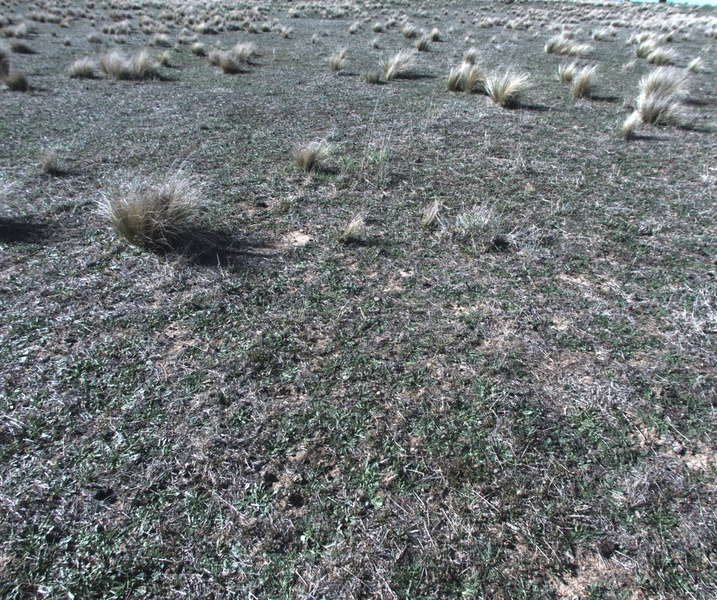st: (97, 156, 223, 259), (483, 67, 534, 109), (284, 140, 341, 177), (638, 65, 687, 98), (377, 49, 417, 85), (568, 63, 603, 104), (633, 95, 678, 126), (127, 48, 164, 83), (449, 59, 479, 99), (339, 208, 372, 244), (545, 33, 587, 56), (100, 46, 126, 83), (64, 53, 96, 83), (219, 44, 249, 76), (39, 146, 68, 175), (422, 195, 444, 232), (646, 46, 678, 67), (620, 111, 639, 142), (329, 44, 347, 74), (635, 40, 664, 57), (557, 56, 575, 83), (10, 20, 28, 43), (155, 49, 174, 69), (591, 22, 611, 41), (630, 30, 656, 44), (237, 38, 254, 58), (189, 38, 205, 59), (208, 44, 220, 72), (398, 21, 419, 37), (690, 55, 709, 72), (415, 35, 430, 56), (425, 25, 441, 41), (663, 27, 674, 46)
